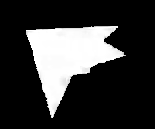Plane: (22, 19, 134, 122)
